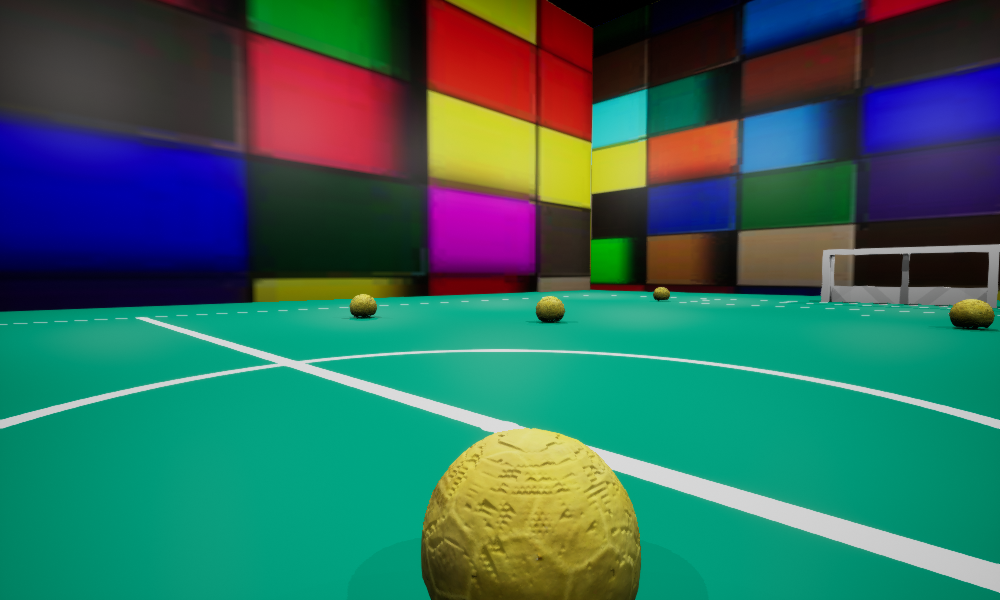b: (421, 428, 640, 599), (949, 299, 994, 329), (536, 296, 564, 322), (350, 294, 376, 317), (653, 287, 669, 300)
g: (821, 244, 999, 307)
